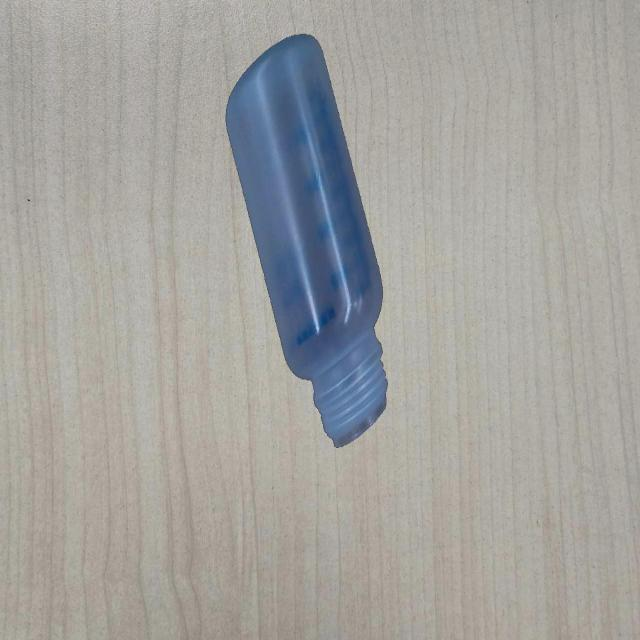bottle: (224, 29, 390, 453)
